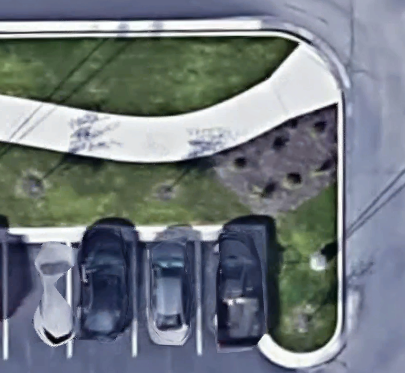Occupied: (199, 238, 266, 358), (5, 240, 70, 358), (135, 240, 200, 357), (70, 240, 134, 357)
